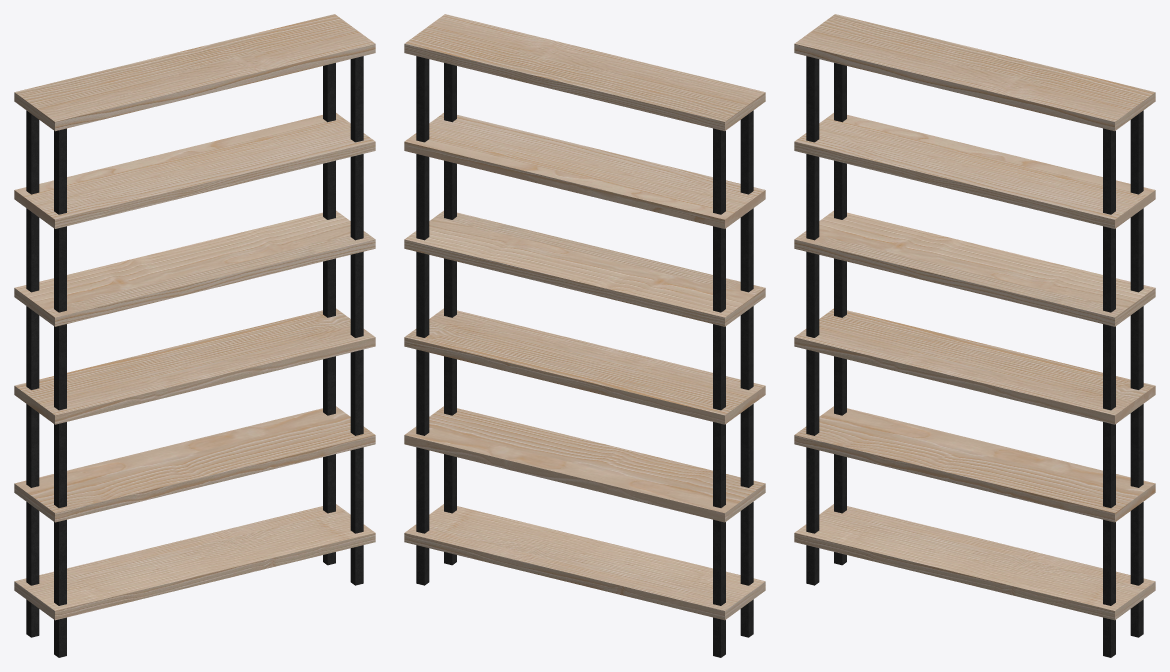
The model's file is uploads_files_6462104_BasicShelve_GLB-Cc5-Ukq6.glb.
3 renders of one model, left to right at view 1: azimuth 30°, elevation 25°; view 2: azimuth 150°, elevation 25°; view 3: azimuth 330°, elevation 25°, orthographic.
Visible parts, largest first — view 1: Planks, Frame; view 2: Planks, Frame; view 3: Planks, Frame.
Boxes of the visible parts, x1,y1,x2,y2 form: Planks: (14,14,375,620); Frame: (26,56,363,657); Planks: (404,14,765,620); Frame: (416,56,753,657); Planks: (794,14,1155,620); Frame: (806,56,1143,657).
Size of the model in its own units: 1.14 by 1.84 by 0.2509.
2 materials, 2 textured.
